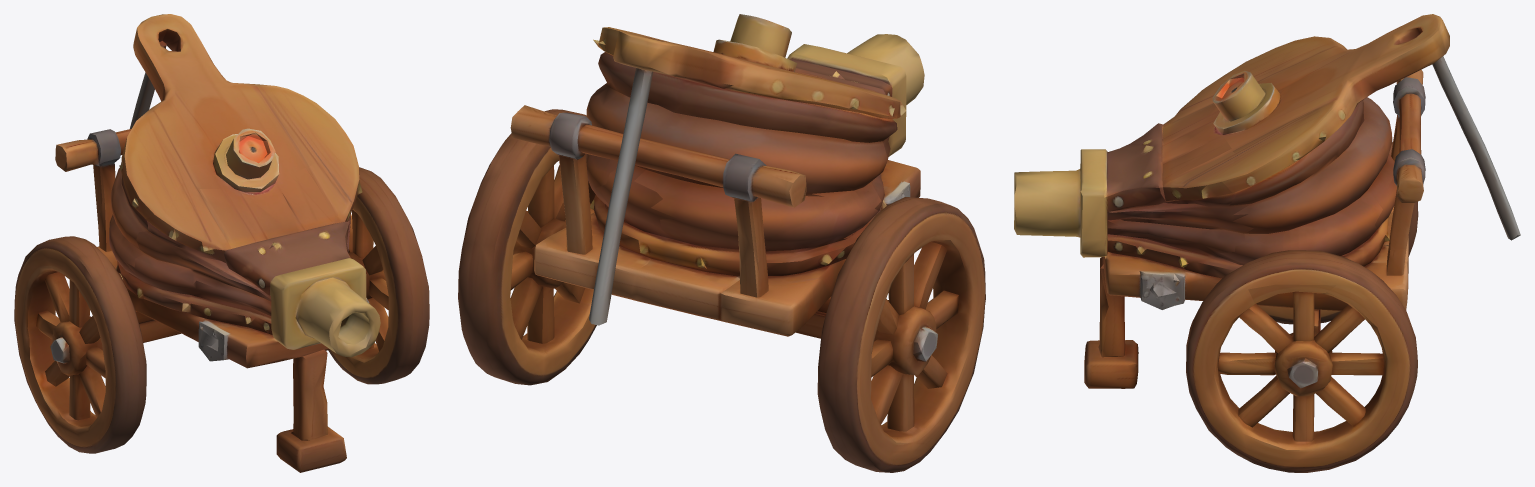
File: bellows_machine.glb
3 renders of one model, left to right at view 1: azimuth 30°, elevation 25°; view 2: azimuth 150°, elevation 25°; view 3: azimuth 270°, elevation 25°, orthographic. The views are drawn at different scales.
Parts seen in each view (by area): view 1: body, paddle; view 2: body, paddle; view 3: body, paddle.
Part boxes in pixels (x1,y1,x2,y2): body: (14, 41, 429, 472); paddle: (55, 14, 358, 278); body: (458, 34, 985, 472); paddle: (510, 14, 899, 271); body: (1014, 56, 1520, 472); paddle: (1210, 14, 1449, 303).
Bounding box in the file's own units: 3.21 × 3.24 × 4.
Materials: 1 (1 with a texture image).
